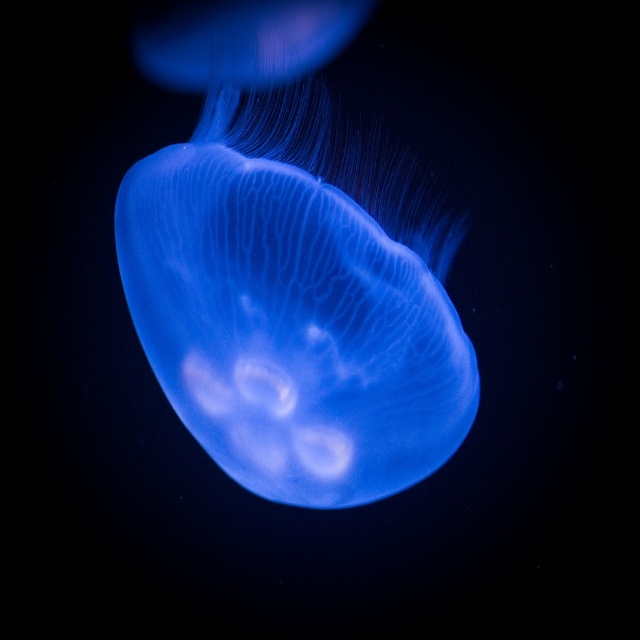Jellyfish: (114, 69, 501, 542)
